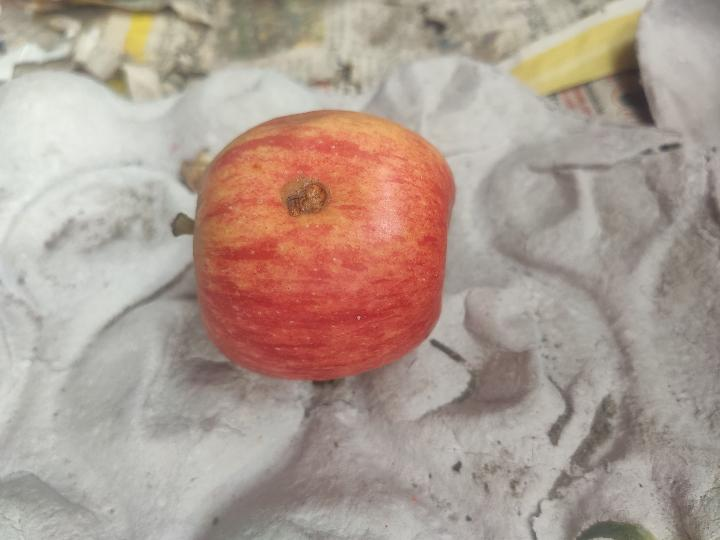apple: (172, 111, 454, 380)
surface_damage: (280, 177, 330, 216)
